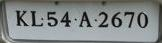0: (137, 12, 151, 30)
2: (96, 10, 111, 29)
4: (59, 11, 72, 29)
5: (46, 10, 58, 30)
6: (110, 11, 123, 28)
7: (124, 10, 136, 30)
A: (79, 10, 93, 32)
K: (13, 9, 29, 28)
L: (30, 10, 45, 28)
